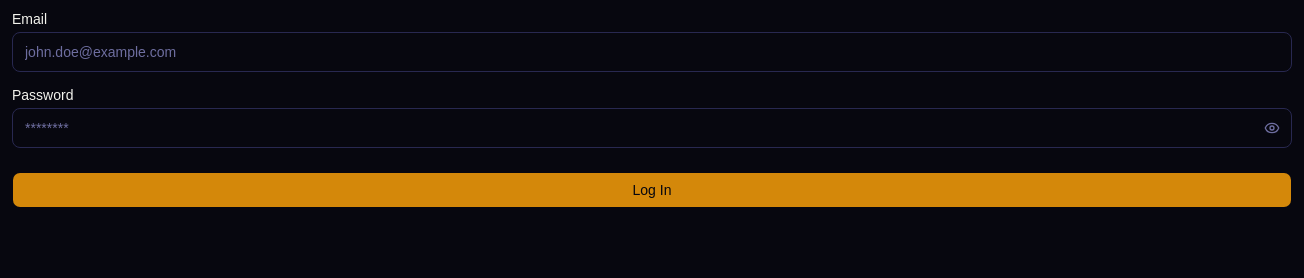
Test: LoginForm › shows inline error on failed login
Type "bad@mail.com" into the field labelled "Email".
click(652, 52); type("bad@mail.com")  # box [12, 32, 1292, 72]
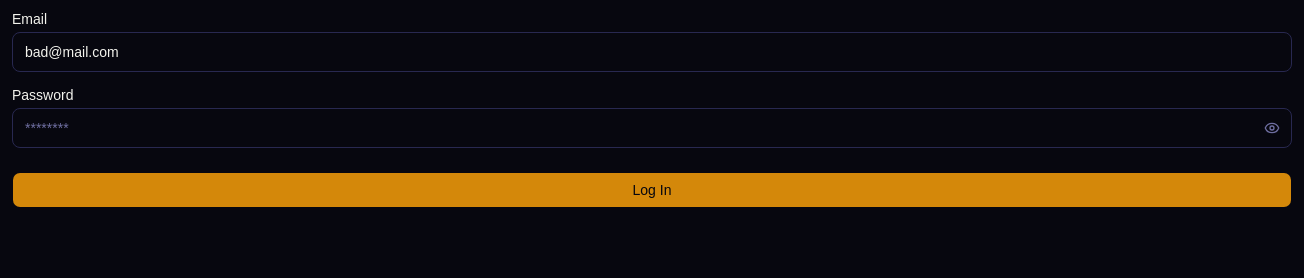
Type "wrongpass" into the password field labelled "Password".
click(652, 128); type("wrongpass")  # box [12, 108, 1292, 148]
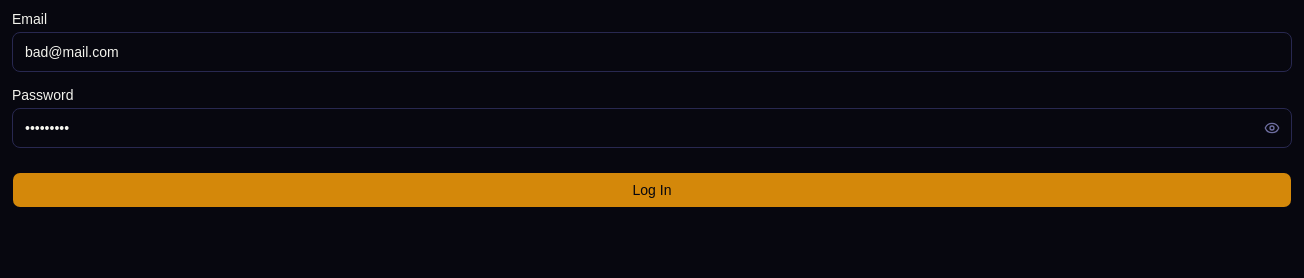
Click the button "Log In".
click(652, 190)  # box [12, 172, 1292, 208]
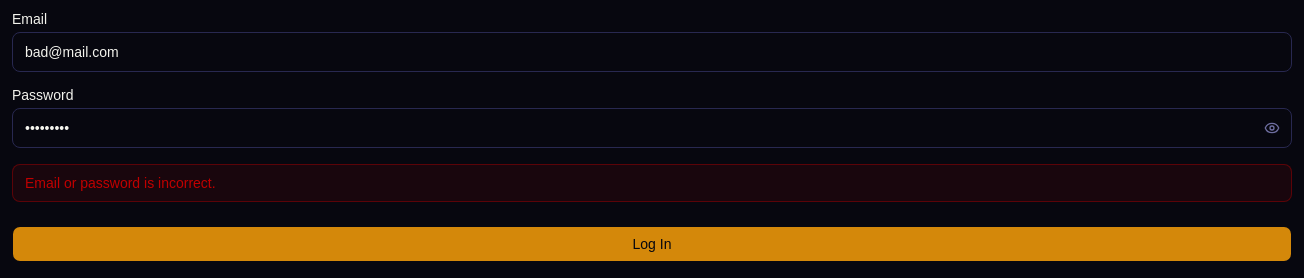
expect the text "Email or password is incorrect." is shown: met, box [12, 164, 1292, 202]
